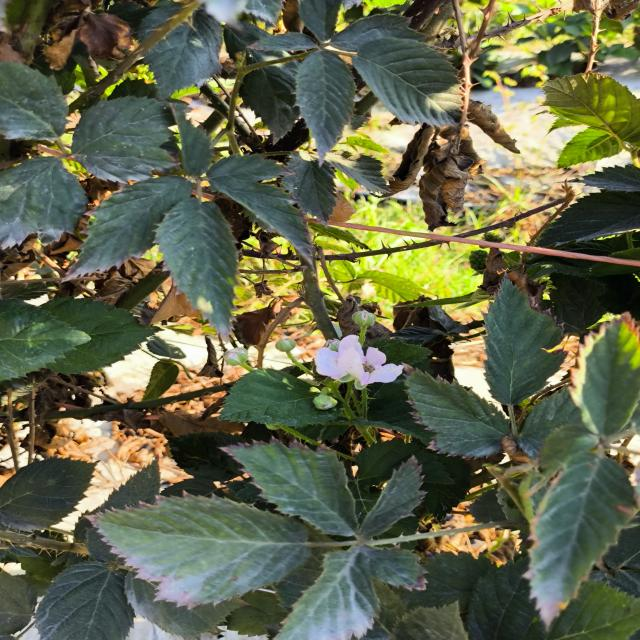boton: (224, 347, 252, 371), (352, 310, 375, 330), (313, 394, 337, 410), (275, 338, 296, 352), (324, 339, 340, 352)
flor: (315, 335, 403, 389)
